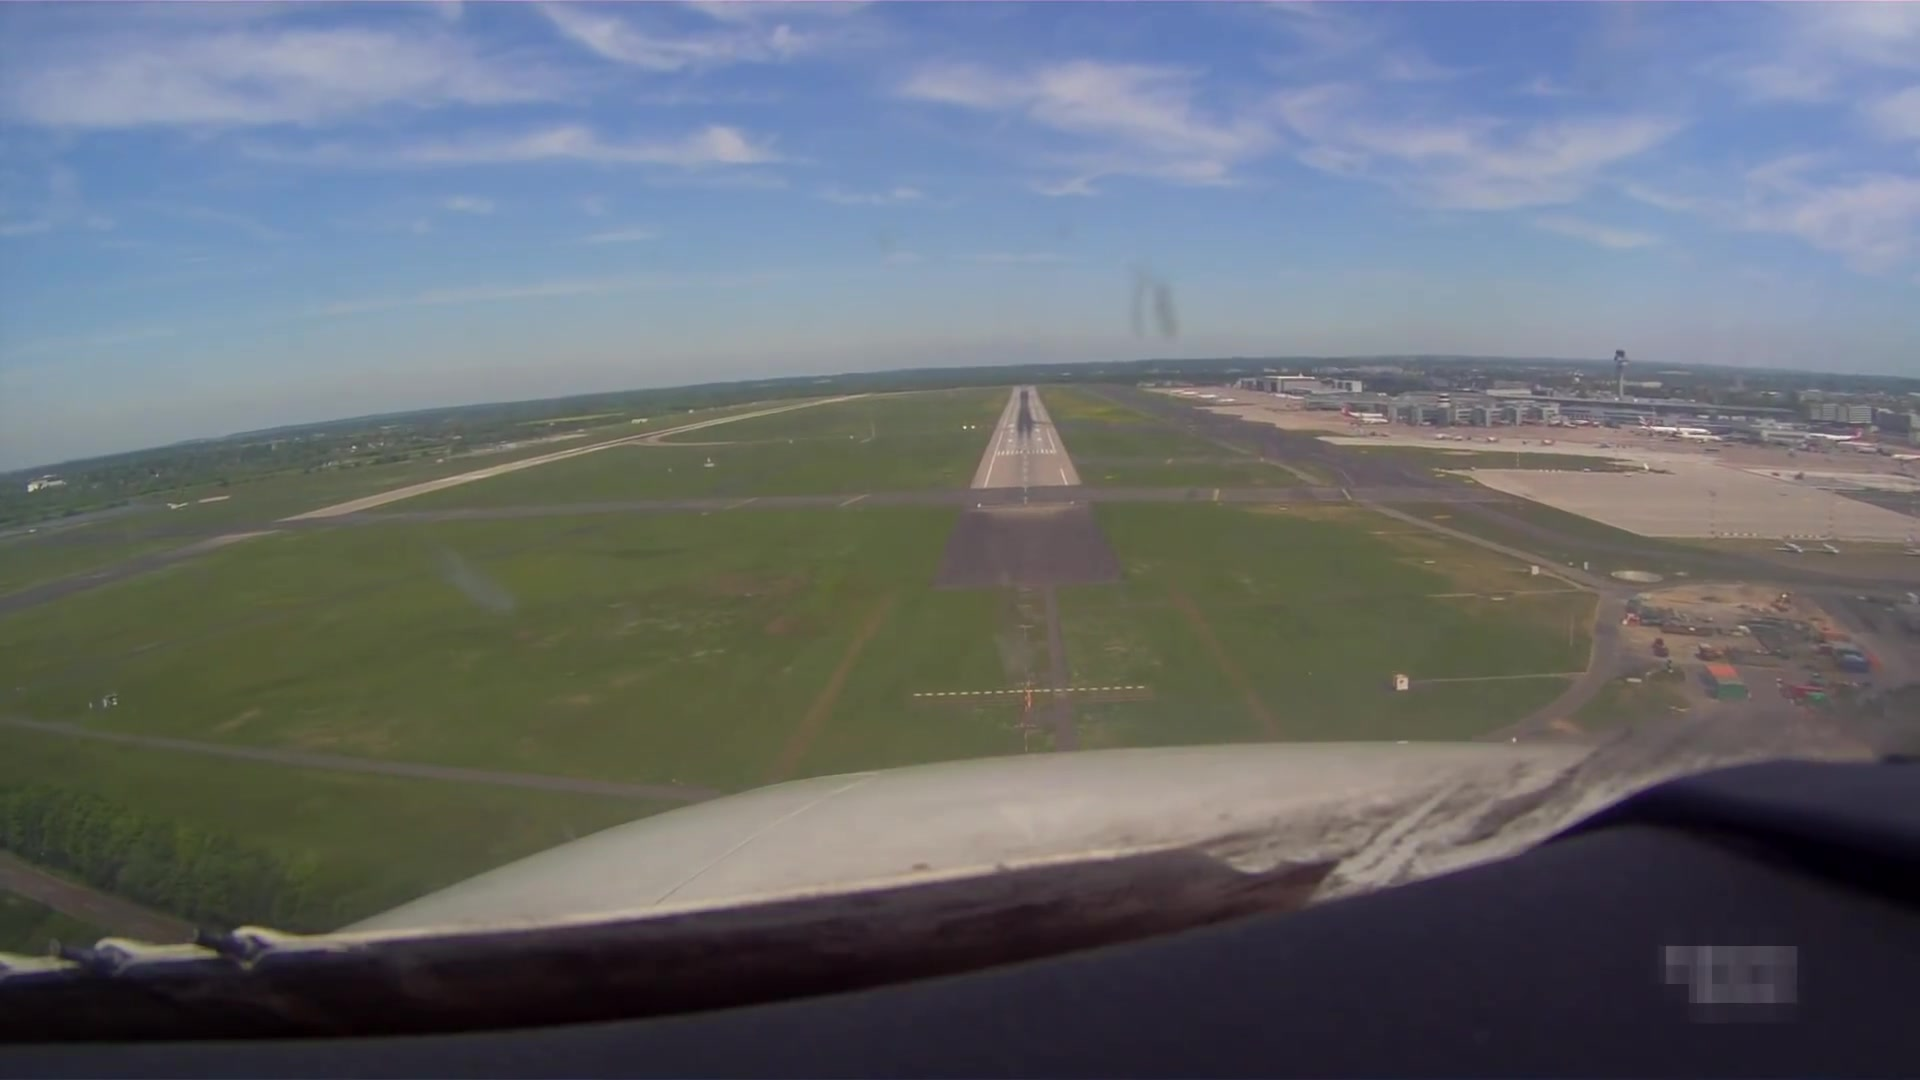entrance: (993, 448, 1063, 458)
runway: (971, 384, 1083, 488)
